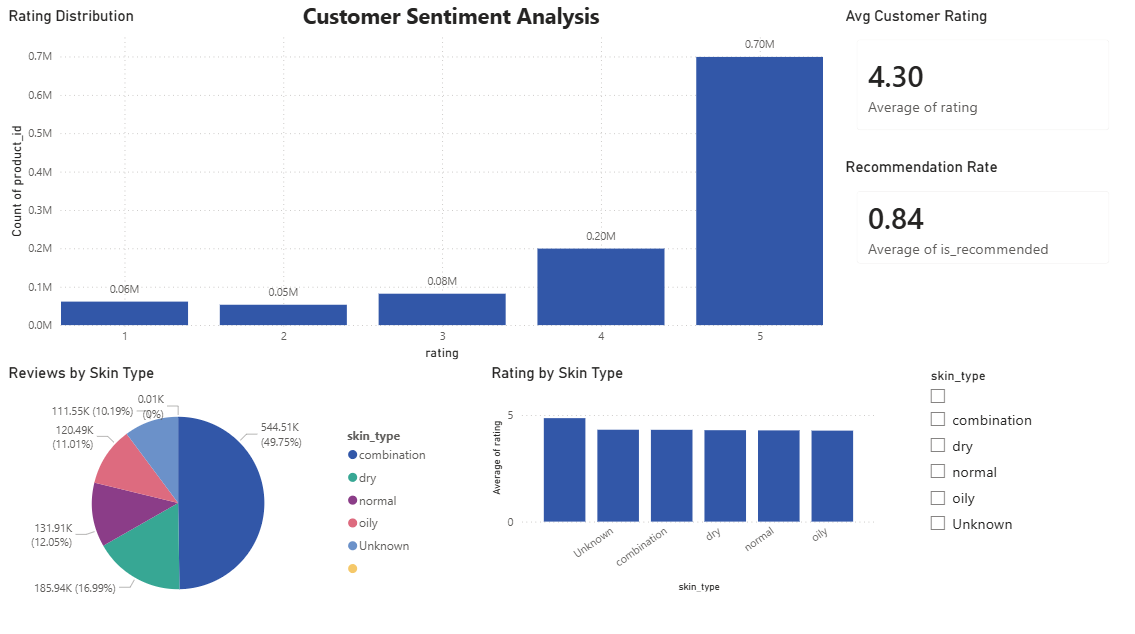

What the dashboard file says about the page in this screenshot:
{"tool":"powerbi","page":{"name":"Customer Sentiment","canvas":[1280,720],"ordinal":1},"visuals":[{"type":"cardVisual","title":"Avg Customer Rating","fields":{"Data":["Avg(clean_reviews.rating)"]},"box":[943.3,11.7,315,155],"z":0},{"type":"cardVisual","title":"Recommendation Rate","fields":{"Data":["Avg(clean_reviews.is_recommended)"]},"box":[943.3,180,315,135],"z":1000},{"type":"clusteredColumnChart","title":"Rating Distribution","fields":{"Y":["CountNonNull(clean_reviews.product_id)"],"Category":["clean_reviews.rating"]},"box":[13.3,11.7,915,396.7],"z":2000},{"type":"pieChart","title":"Reviews by Skin Type","fields":{"Category":["clean_reviews.skin_type"],"Y":["CountNonNull(clean_reviews.rating)"]},"box":[13.3,408.3,483.3,290],"z":3000},{"type":"clusteredColumnChart","title":"Rating by Skin Type","fields":{"Category":["clean_reviews.skin_type"],"Y":["Avg(clean_reviews.rating)"]},"box":[550,408.3,436.7,258.3],"z":4000},{"type":"slicer","fields":{"Values":["clean_reviews.skin_type"]},"box":[1030,408.3,191.7,236.7],"z":5000},{"type":"textbox","box":[311.7,0,396.7,45],"z":5001}]}

Visuals, with their boxes in screenshot pixels (x1, y1, x2, y2), scaled from the page's 1280x720 canvas onto the 1135x634 screenshot:
"Avg Customer Rating" cardVisual: [x1=836, y1=10, x2=1116, y2=147]
"Recommendation Rate" cardVisual: [x1=836, y1=158, x2=1116, y2=277]
"Rating Distribution" clusteredColumnChart: [x1=12, y1=10, x2=823, y2=360]
"Reviews by Skin Type" pieChart: [x1=12, y1=360, x2=440, y2=615]
"Rating by Skin Type" clusteredColumnChart: [x1=488, y1=360, x2=875, y2=587]
slicer - clean_reviews.skin_type: [x1=913, y1=360, x2=1083, y2=568]
textbox: [x1=276, y1=0, x2=628, y2=40]
